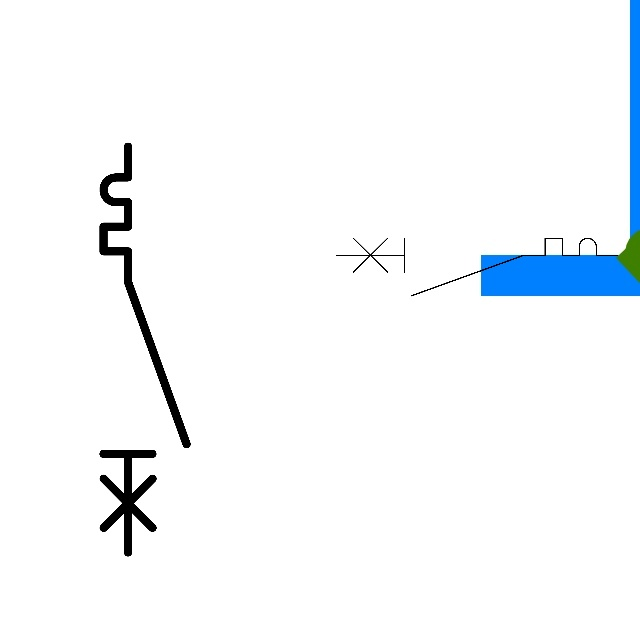interruptor_termomagnetico: (93, 136, 197, 563), (329, 231, 625, 303)
